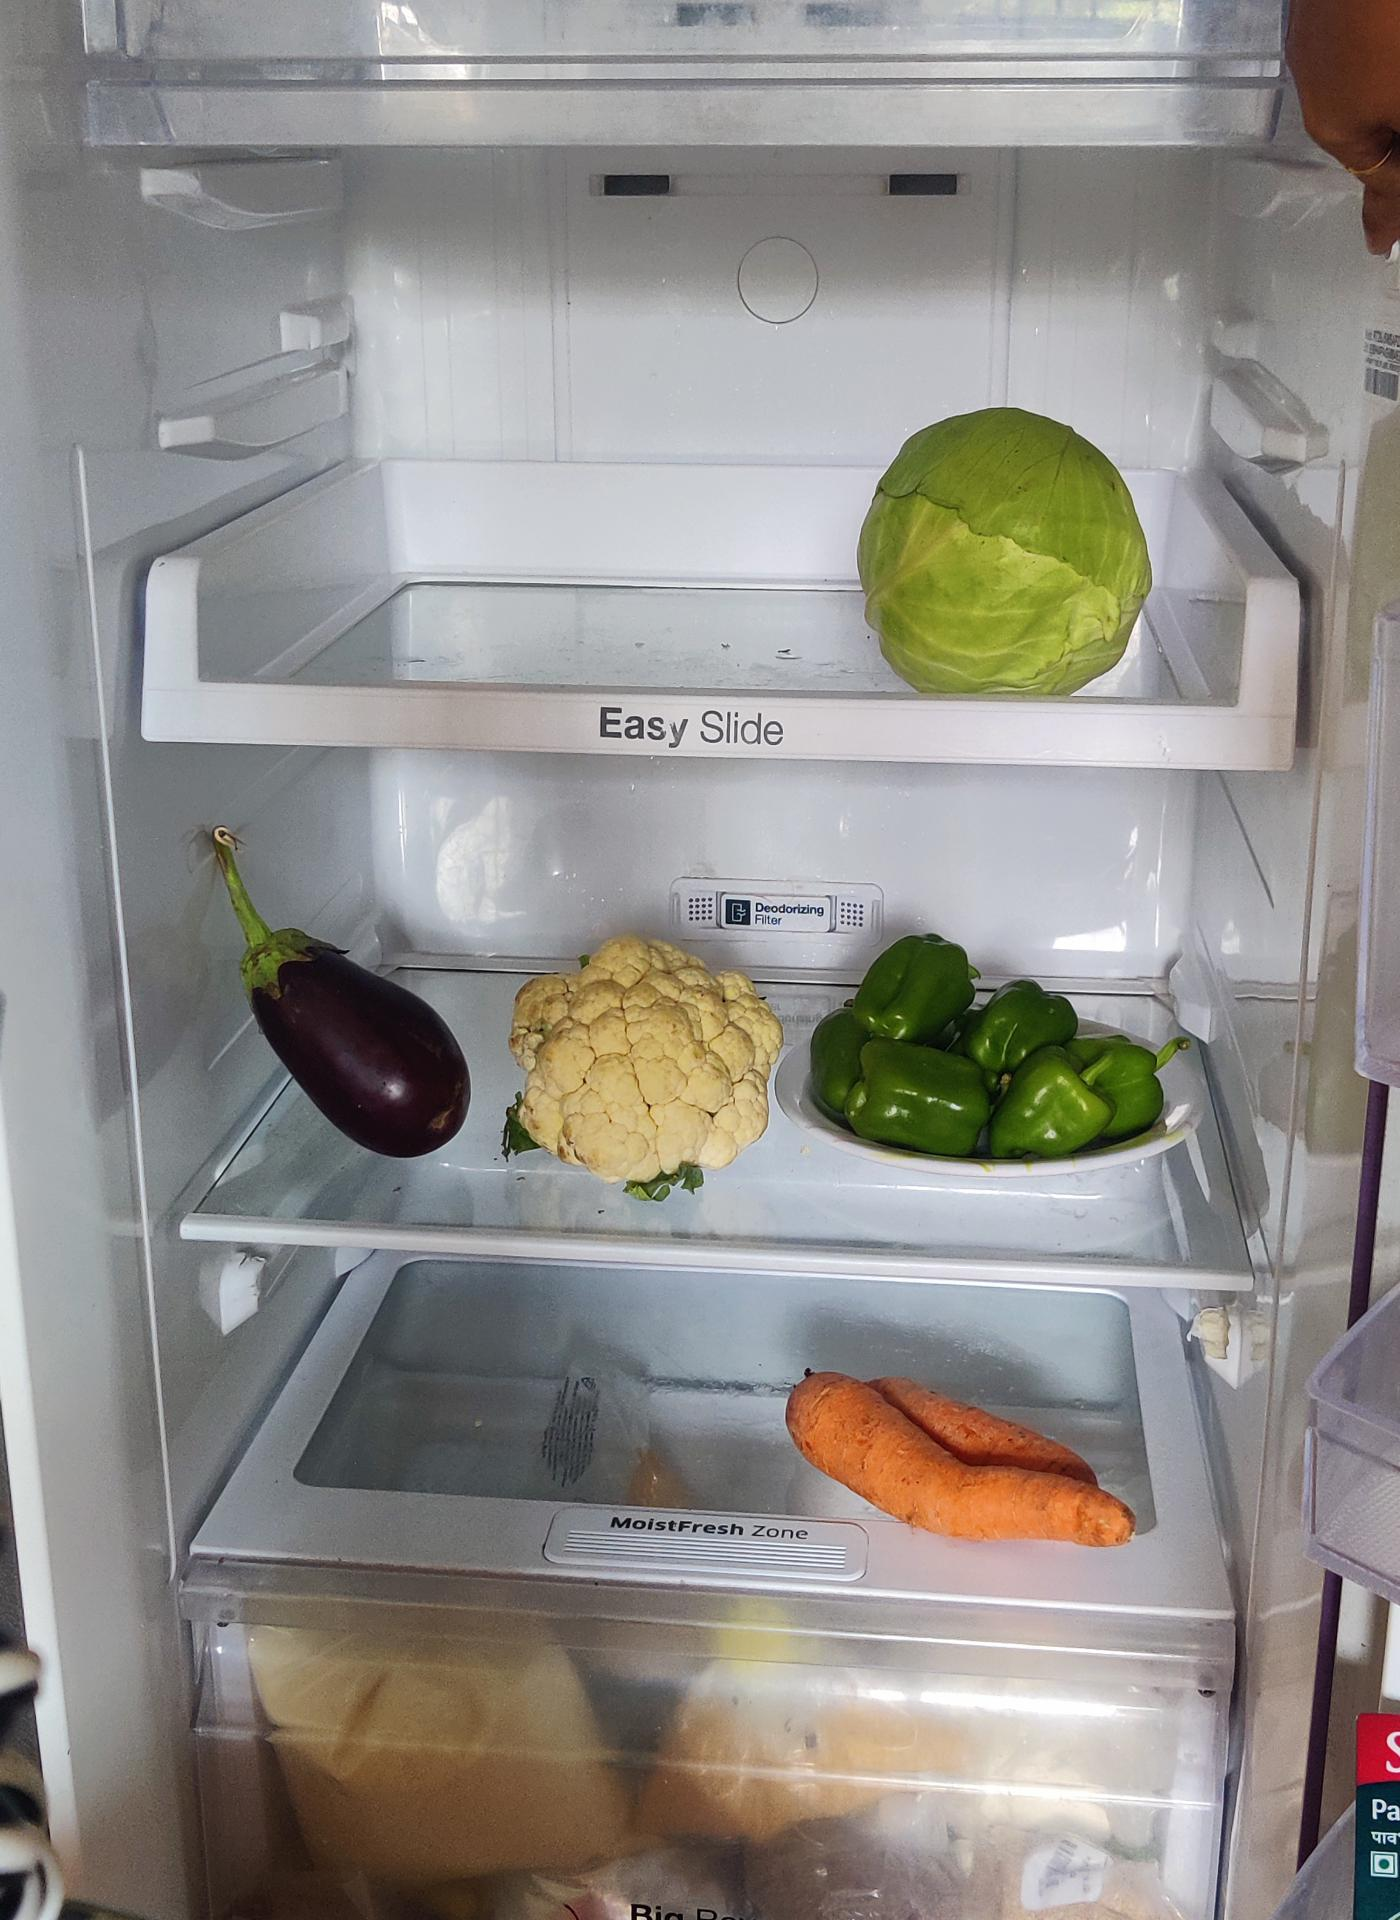brinjal: (234, 885, 461, 1161)
cabbage: (857, 411, 1150, 704)
capsicum: (807, 927, 1181, 1157)
carrots: (783, 1370, 1139, 1553)
cauliflower: (511, 936, 781, 1181)
